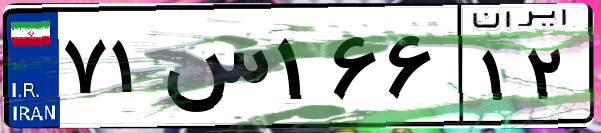1: (270, 28, 330, 110), (475, 38, 525, 113), (110, 28, 158, 98)
2: (525, 38, 570, 115)
6: (385, 28, 445, 110), (330, 28, 385, 110)
7: (57, 26, 110, 100)
س: (158, 20, 270, 120)
